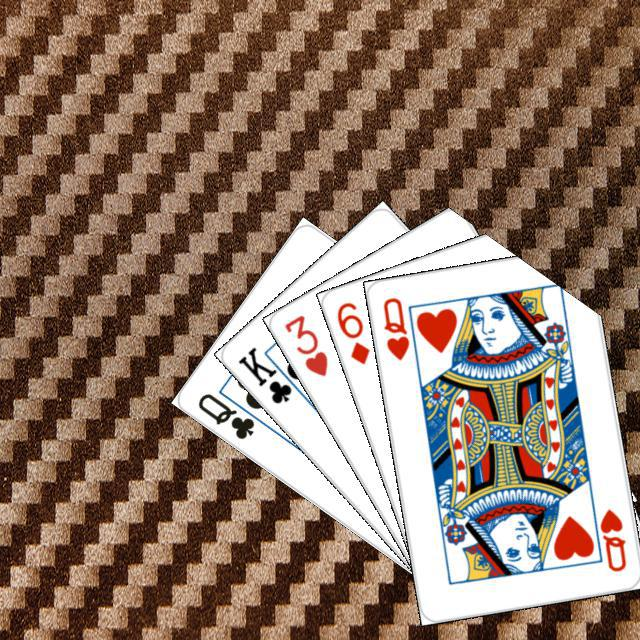3h: (279, 309, 330, 378)
6d: (332, 297, 372, 367)
Kc: (232, 341, 306, 406)
Qc: (192, 383, 269, 442)
Qh: (586, 499, 628, 574), (378, 292, 411, 362)
